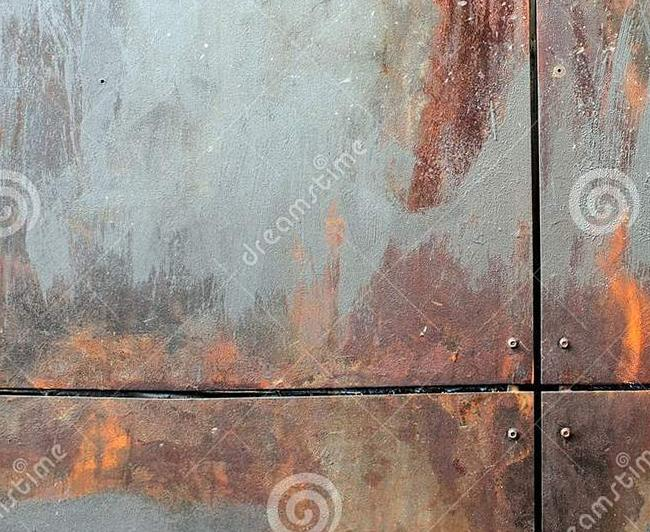rust: (9, 326, 265, 510), (288, 219, 570, 383), (374, 1, 525, 219), (552, 4, 647, 163), (584, 225, 650, 377)
